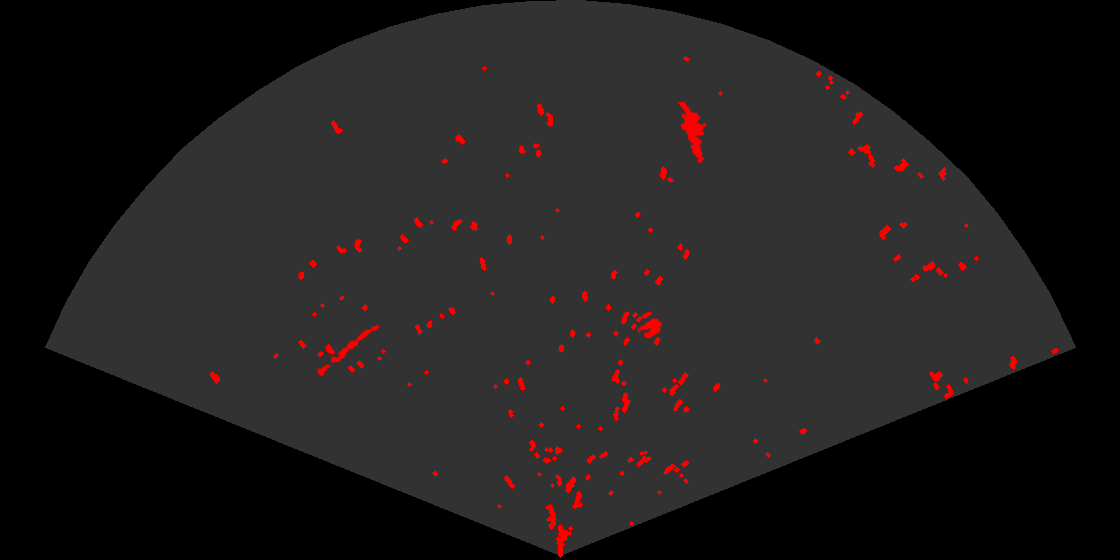ball: (634, 310, 664, 340)
chain: (307, 323, 381, 382)
frogman: (676, 102, 708, 165)
